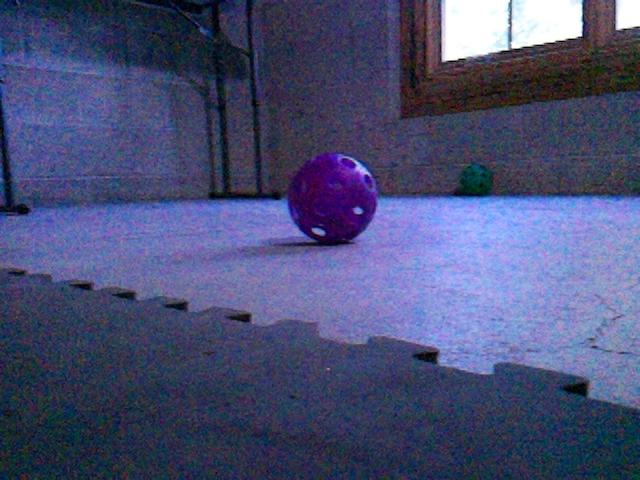Green: (458, 164, 493, 196)
Purple: (285, 152, 378, 245)
